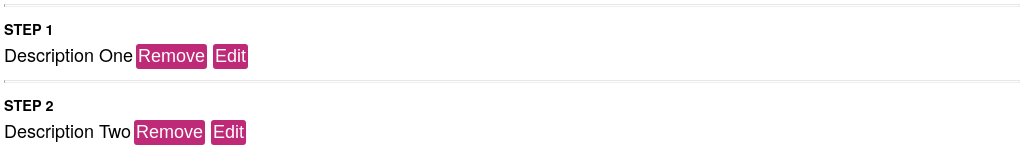
Test: DraggableList component › should render "Update" button when in "Edit" button clicked [methodSteps]
Click the button "Edit" in the row of "Description One": (230, 56) [213, 44, 248, 69]
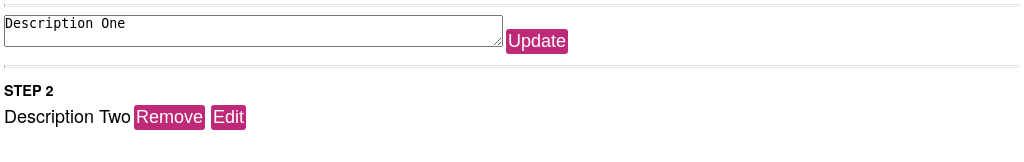
Check: the number of buttons "Update" is 1, box [506, 29, 568, 54]
